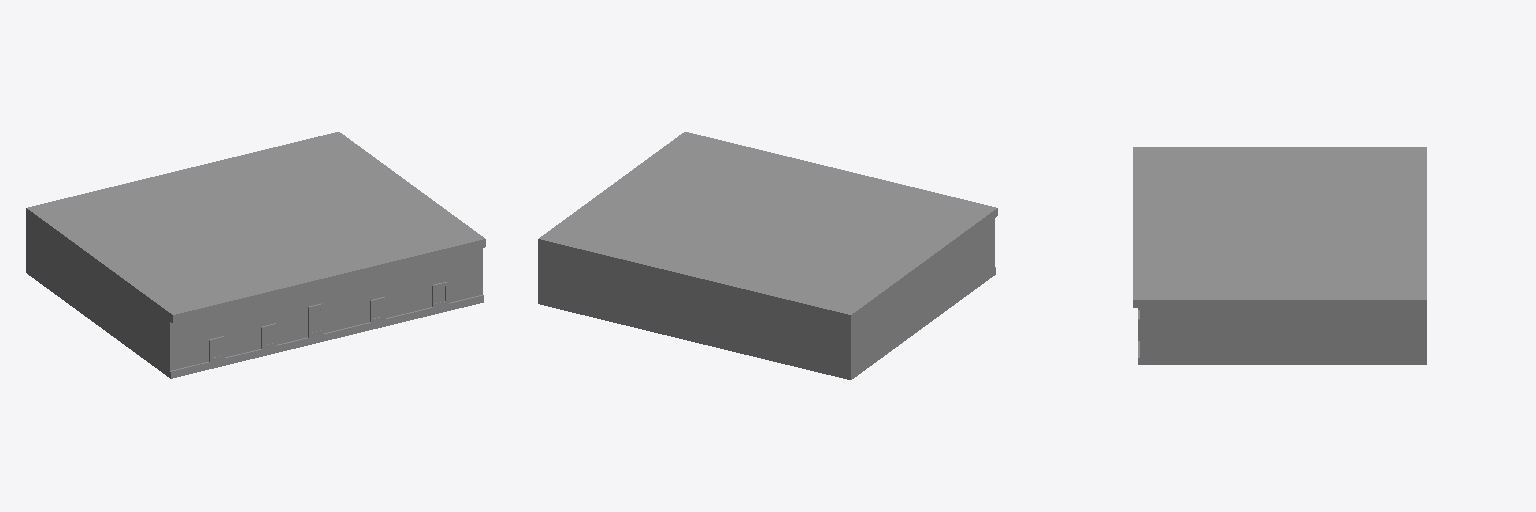
The model's file is edificio333.obj.
3 views of the same model, side by side, from view 1: azimuth 30°, elevation 25°; view 2: azimuth 150°, elevation 25°; view 3: azimuth 270°, elevation 25° (orthographic).
Visible parts, largest first — view 1: Cubo.003_Cubo.032; view 2: Cubo.003_Cubo.032; view 3: Cubo.003_Cubo.032.
Part boxes in pixels (left/top/right/bottom): Cubo.003_Cubo.032: left=26, top=132, right=485, bottom=378; Cubo.003_Cubo.032: left=538, top=132, right=997, bottom=379; Cubo.003_Cubo.032: left=1133, top=147, right=1426, bottom=364.
Bounding box in the file's own units: 14.78 × 2.95 × 12.01.